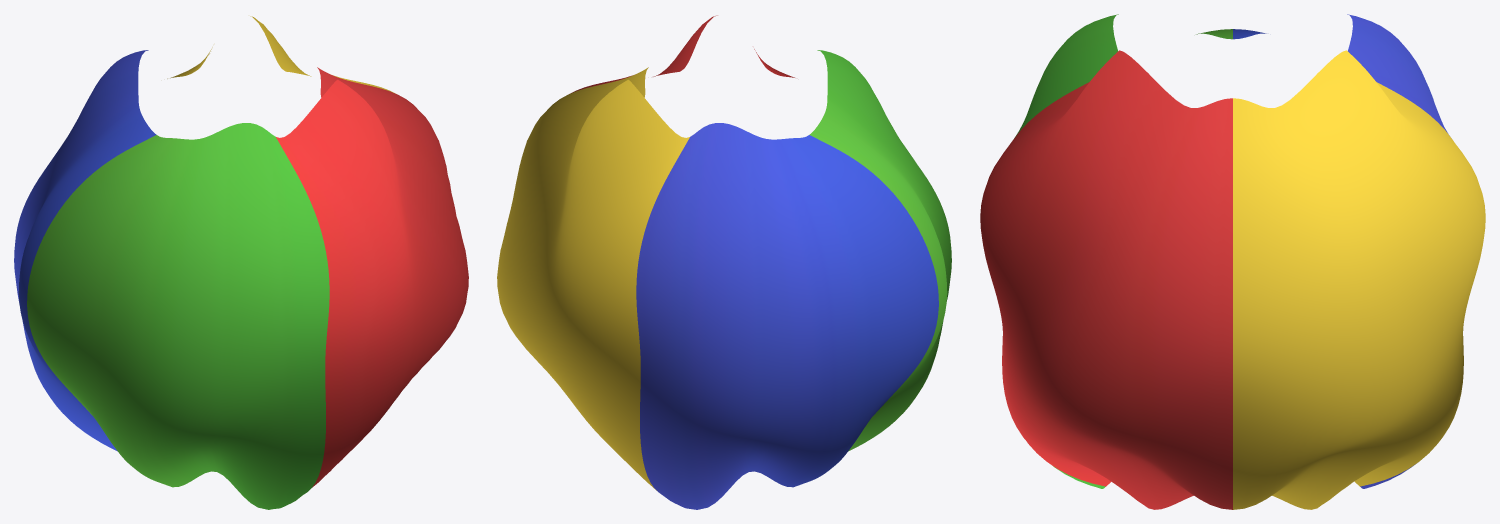
Rendered from scan-tiles.gltf.
3 views of the same model, side by side, from view 1: azimuth 30°, elevation 25°; view 2: azimuth 150°, elevation 25°; view 3: azimuth 270°, elevation 25° (orthographic). The views are drawn at different scales.
Visible parts, largest first — view 1: Scan; view 2: Scan; view 3: Scan.
Part boxes in pixels (x1,y1,x2,y2): Scan: (14,16,468,509); Scan: (497,15,951,509); Scan: (980,14,1485,509).
Size of the model in its own units: 1.09 by 1.03 by 0.9843.
1 material, 1 textured.
